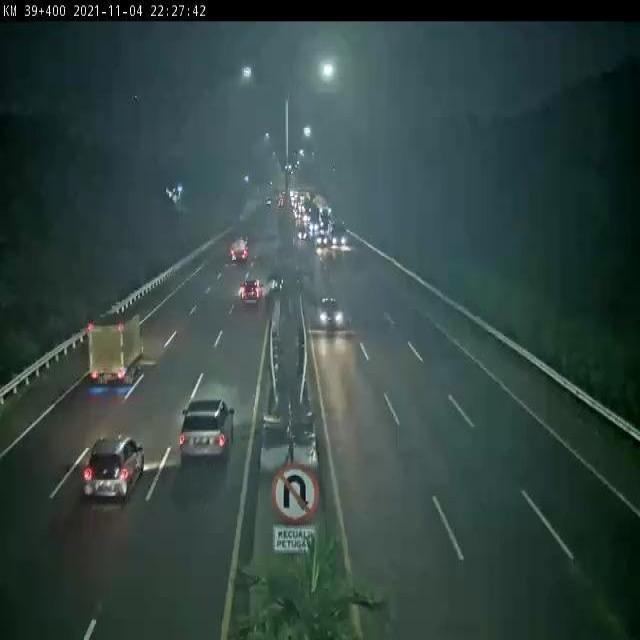car: (86, 435, 144, 500), (180, 400, 235, 460), (315, 296, 346, 328), (239, 277, 260, 304)
truck-m-: (89, 308, 145, 384)
truck-s-: (230, 235, 250, 262)
